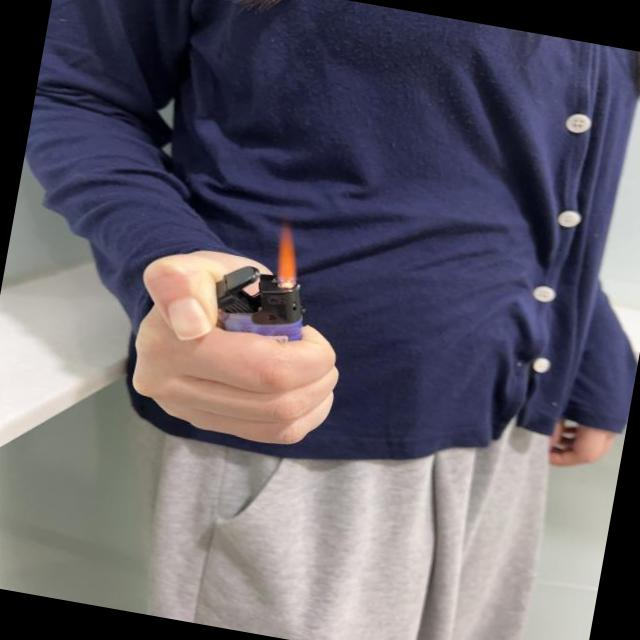Fire: (267, 224, 310, 293)
